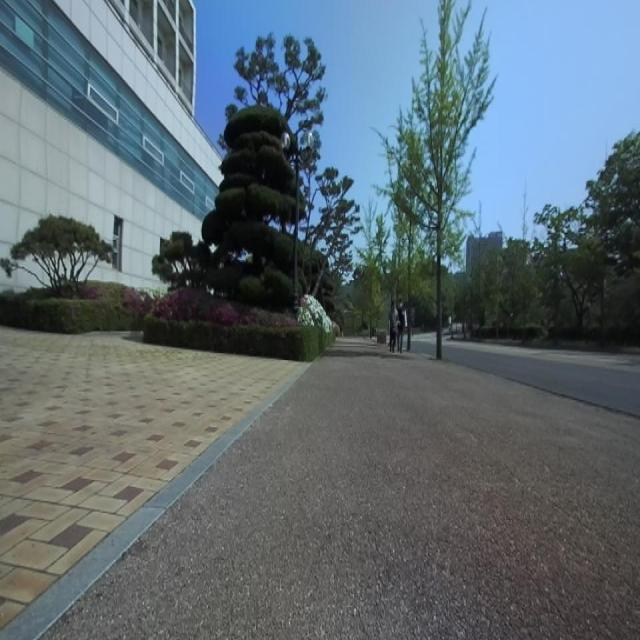sidewalk: (44, 338, 640, 639)
